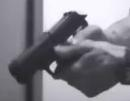gun: (1, 1, 130, 101)
